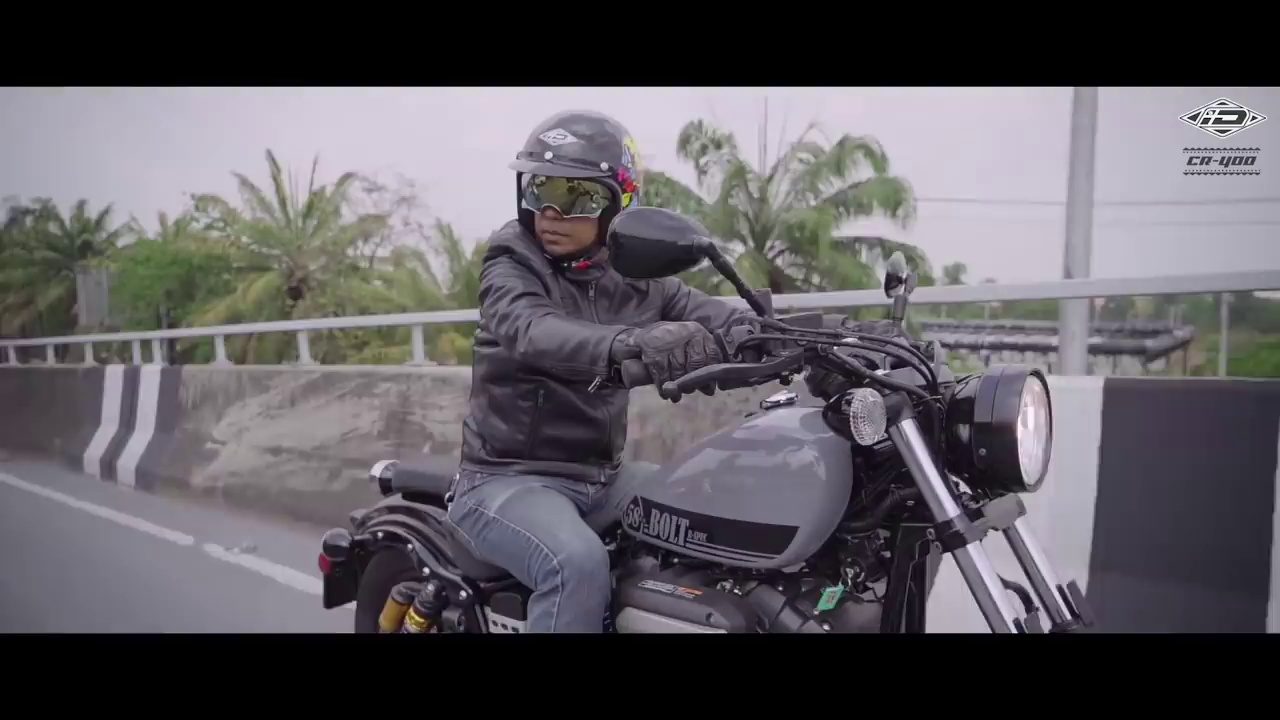helmet: (505, 99, 649, 212)
